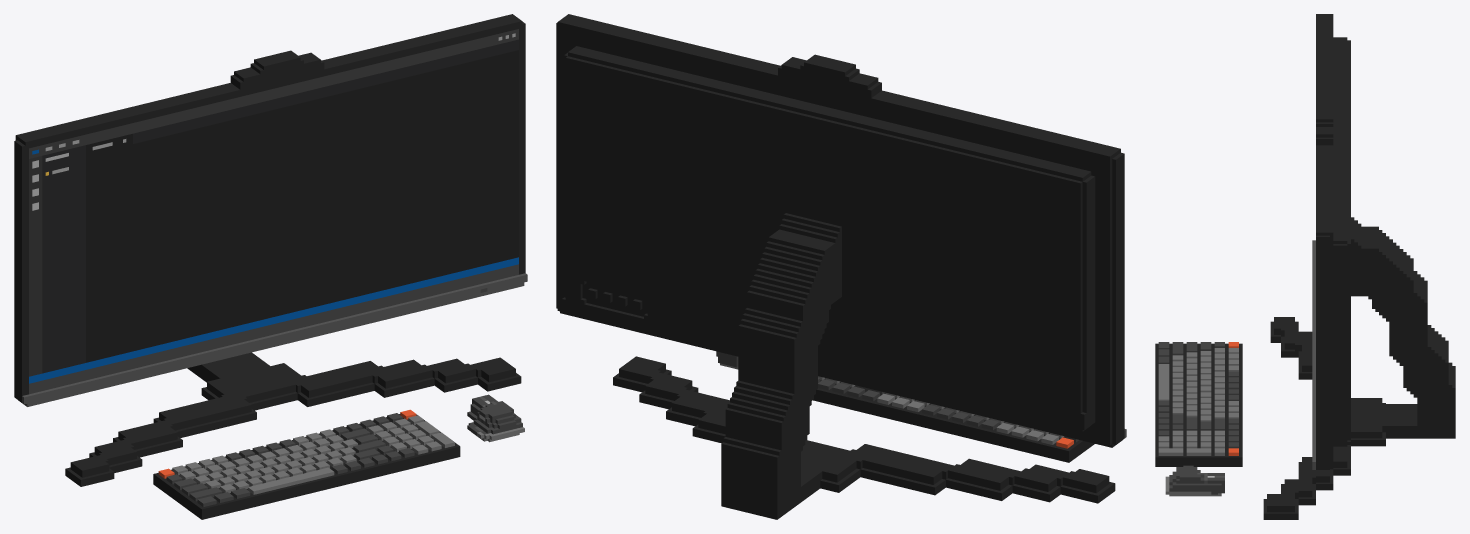
Rendered from coms.gltf.
3 views of the same model, side by side, from view 1: azimuth 30°, elevation 25°; view 2: azimuth 150°, elevation 25°; view 3: azimuth 270°, elevation 25° (orthographic). The views are drawn at different scales.
Parts seen in each view (by area): view 1: Untitled; view 2: Untitled; view 3: Untitled.
Part boxes in pixels (box(x1,y1,x2,y2)): Untitled: box(14, 14, 527, 519); Untitled: box(556, 14, 1126, 519); Untitled: box(1155, 14, 1455, 519).
Size of the model in its own units: 15 by 10 by 8.6.
Materials: 1 (1 with a texture image).
